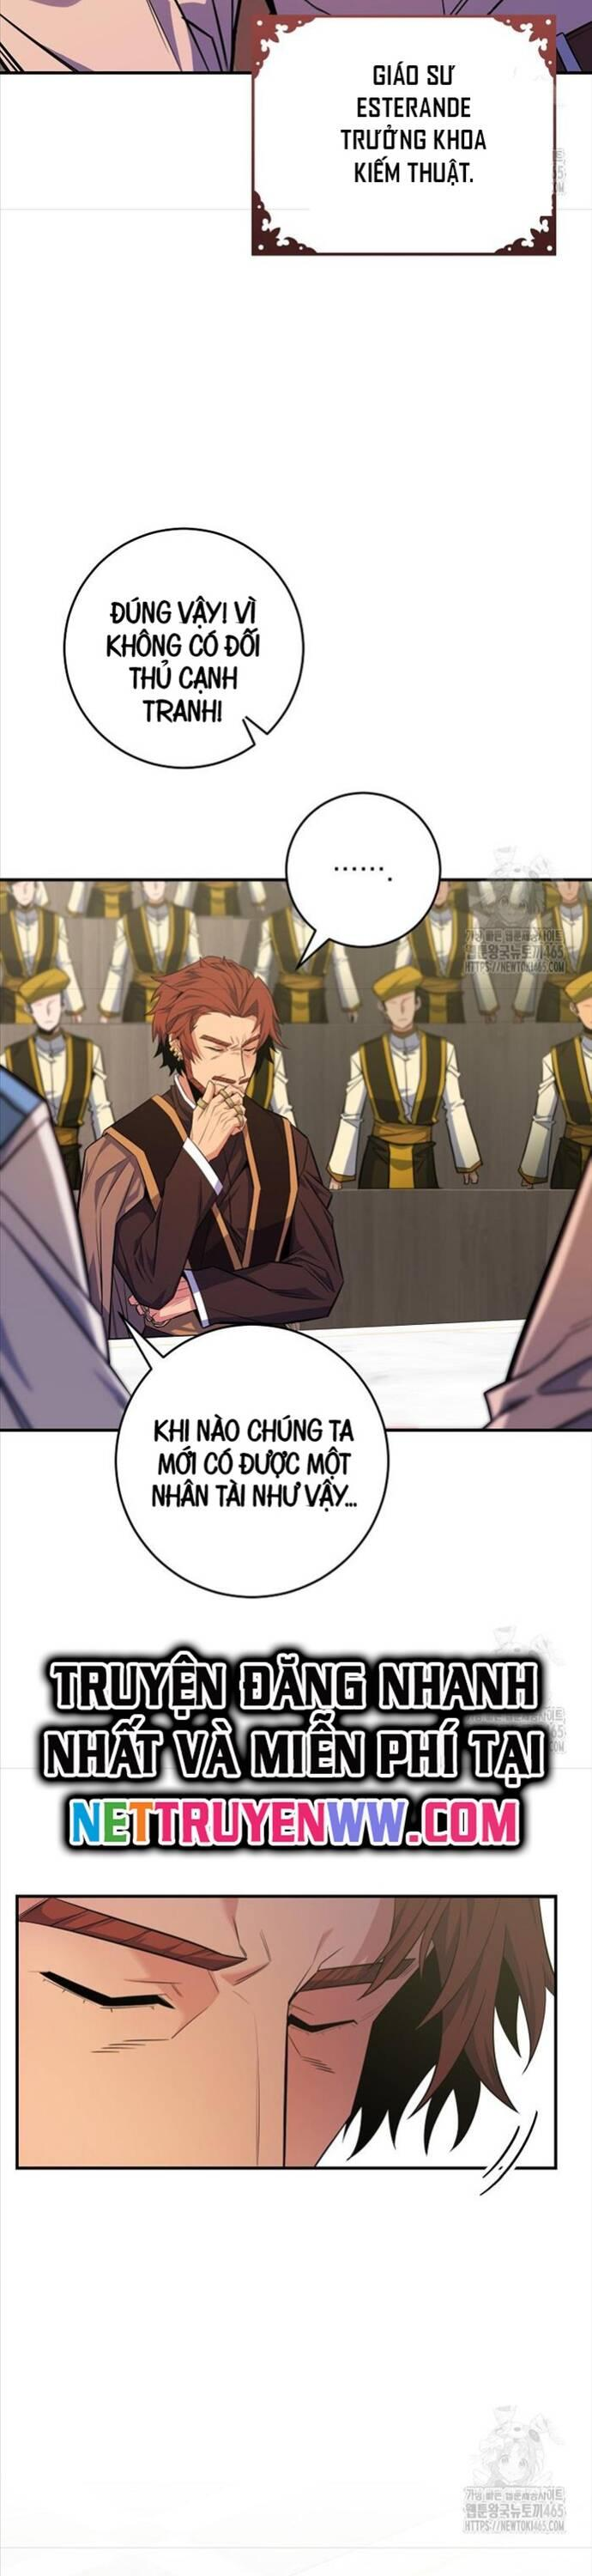quangcao: (30, 1623, 549, 1868)
